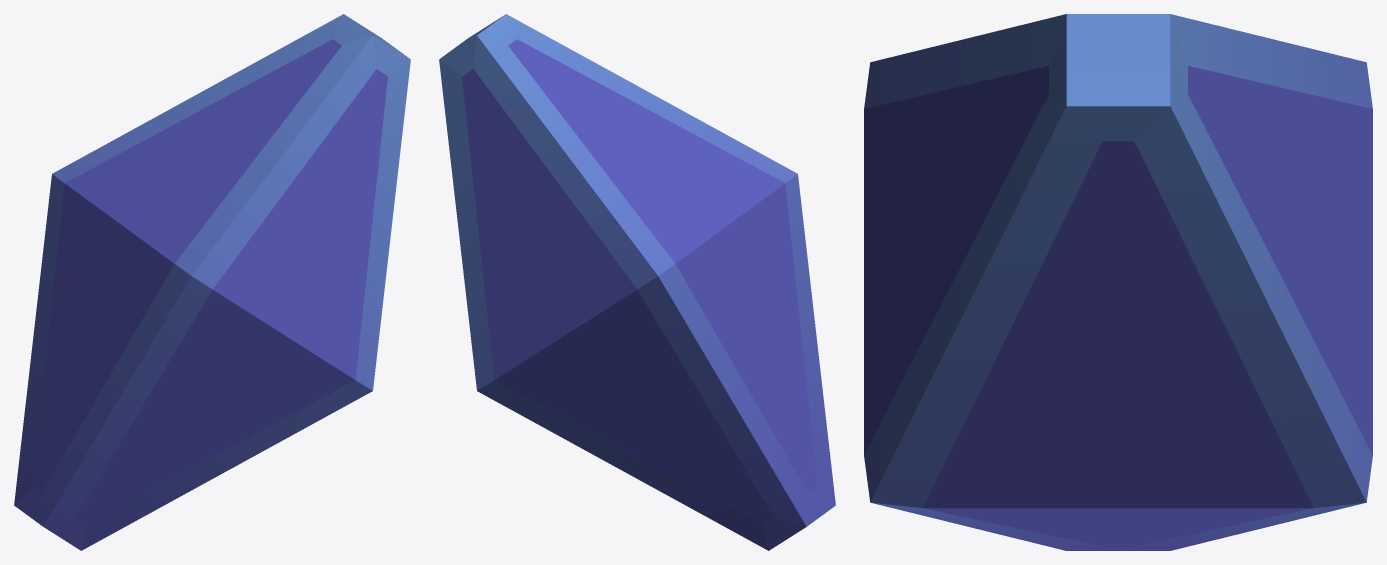
The model's file is BLUE.obj.
3 renders of one model, left to right at view 1: azimuth 30°, elevation 25°; view 2: azimuth 150°, elevation 25°; view 3: azimuth 270°, elevation 25°, orthographic. The views are drawn at different scales.
Visible parts, largest first — view 1: BLUE; view 2: BLUE; view 3: BLUE.
Boxes of the visible parts, box(x1,y1,x2,y2) form: BLUE: box(14, 14, 410, 550); BLUE: box(439, 14, 835, 550); BLUE: box(864, 14, 1372, 550).
Bounding box in the file's own units: 2.63 × 3.04 × 1.77.
